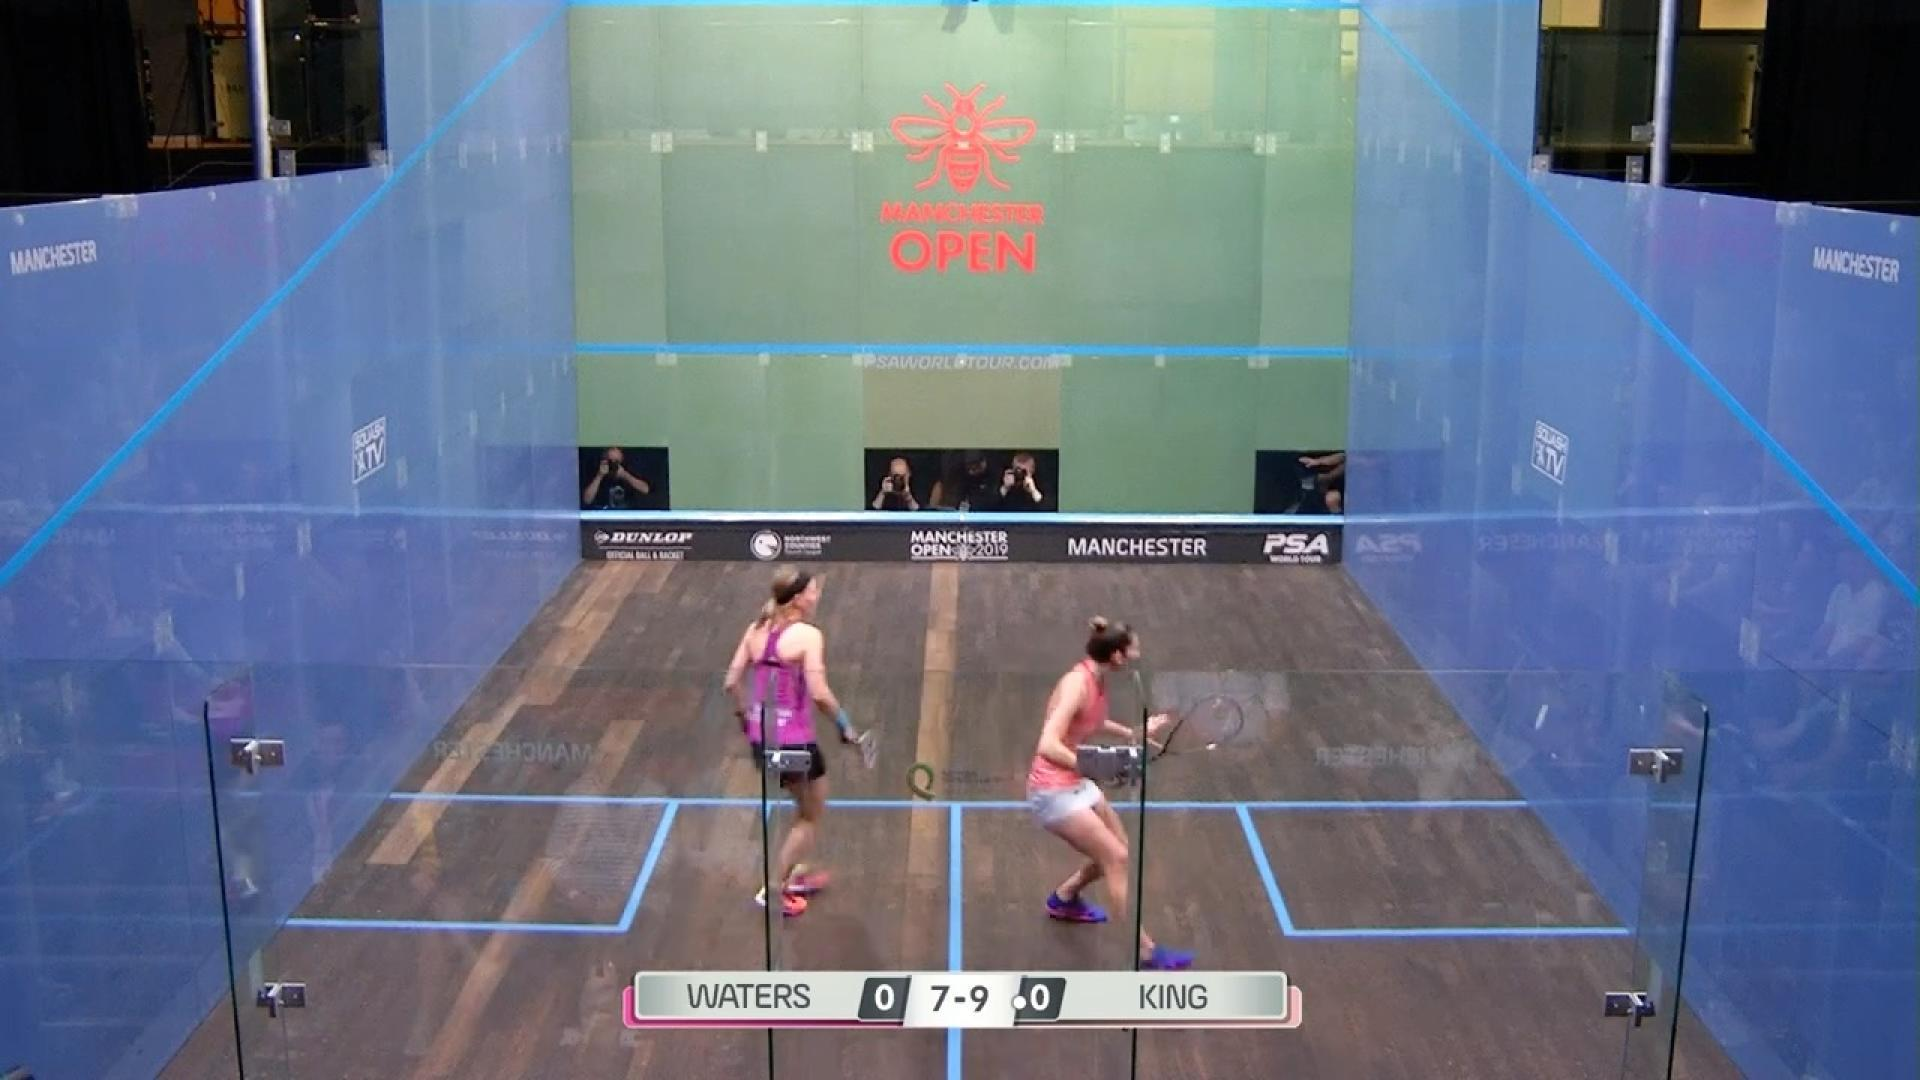Squash-Ball: (1515, 695, 1565, 748)
